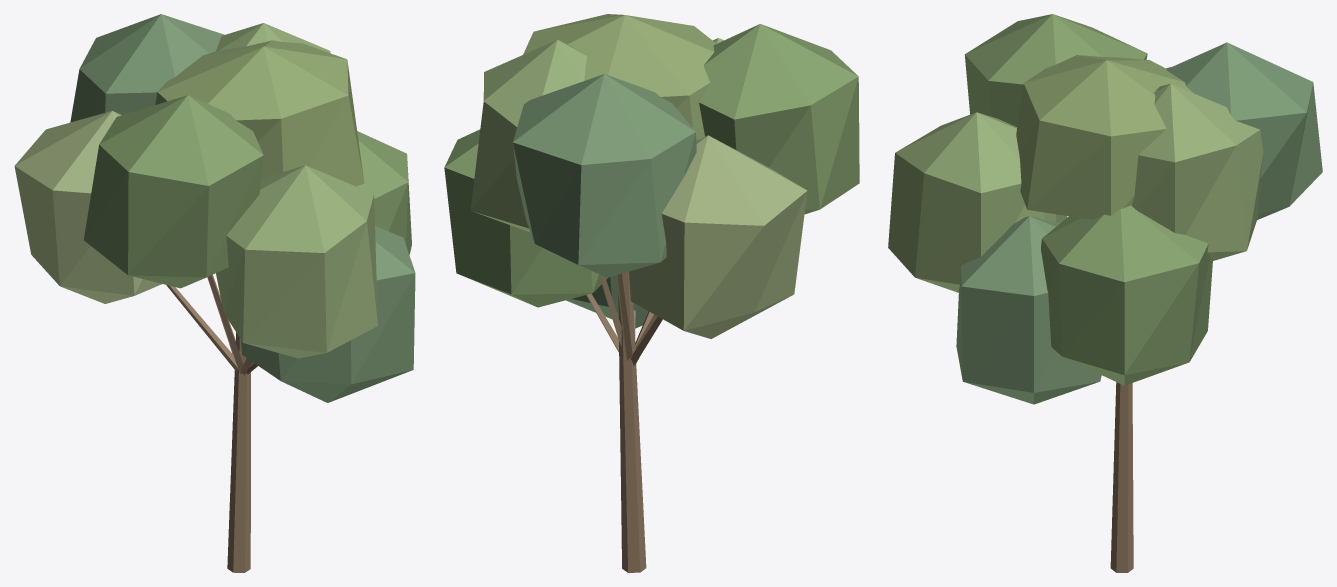
3 views of the same model, side by side, from view 1: azimuth 30°, elevation 25°; view 2: azimuth 150°, elevation 25°; view 3: azimuth 270°, elevation 25° (orthographic). The views are drawn at different scales.
Bounding box in the file's own units: 9 × 12.85 × 9.8.
